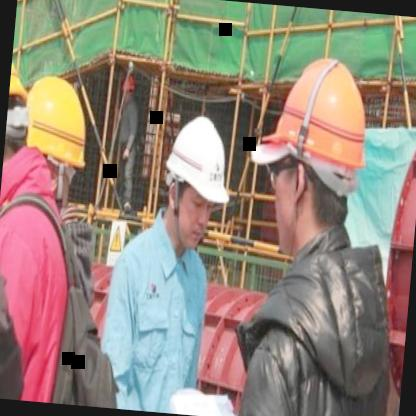helmet: (256, 50, 374, 260), (156, 110, 236, 252), (12, 74, 91, 206), (0, 34, 35, 217), (121, 73, 136, 102)
